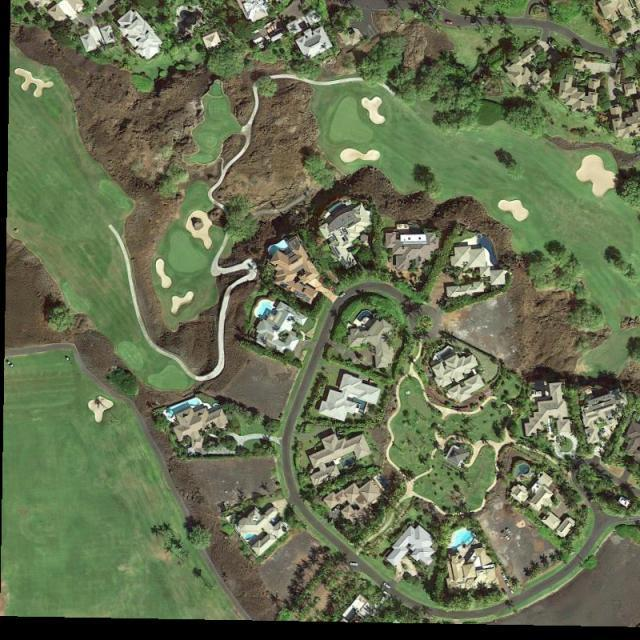vehicle: (6, 360, 15, 369), (331, 506, 340, 514), (506, 529, 515, 537), (383, 582, 391, 590), (338, 292, 346, 300), (502, 572, 508, 581), (504, 534, 511, 541), (350, 562, 358, 566), (470, 22, 477, 26), (510, 589, 514, 596), (300, 1, 306, 5), (446, 22, 454, 25), (506, 581, 510, 587)
